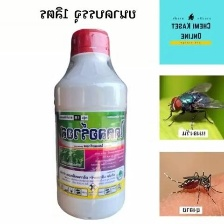insecticide: (52, 24, 128, 222)
